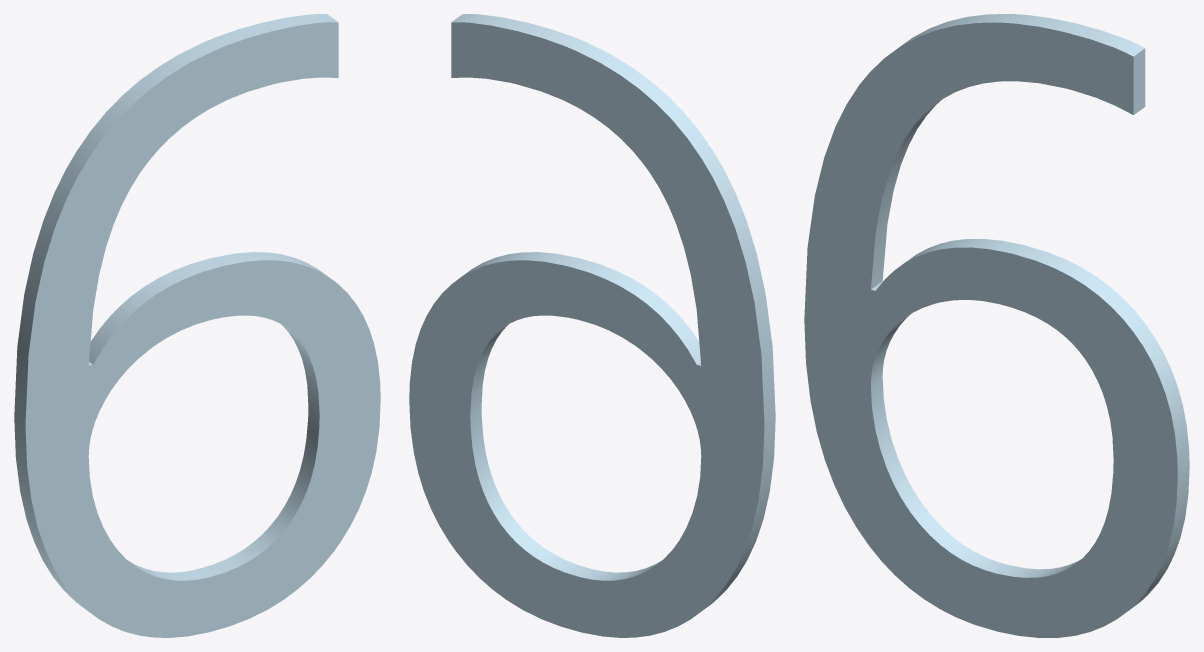
The picture shows the model from 3 angles, left to right: view 1: azimuth 30°, elevation 25°; view 2: azimuth 150°, elevation 25°; view 3: azimuth 330°, elevation 25°; orthographic projection. The views are drawn at different scales.
Parts seen in each view (by area): view 1: 6; view 2: 6; view 3: 6.
Boxes of the visible parts, x1=… form: 6: x1=14, y1=14, x2=380, y2=637; 6: x1=409, y1=14, x2=775, y2=637; 6: x1=804, y1=14, x2=1189, y2=637.
Size of the model in its own units: 0.0366 by 0.0577 by 0.002.
